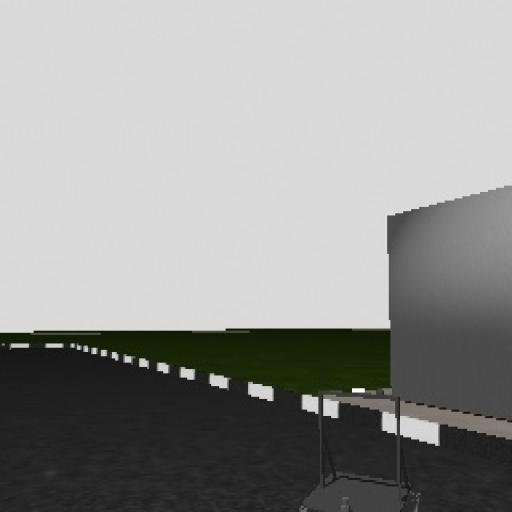huskya200: (298, 381, 432, 512)
